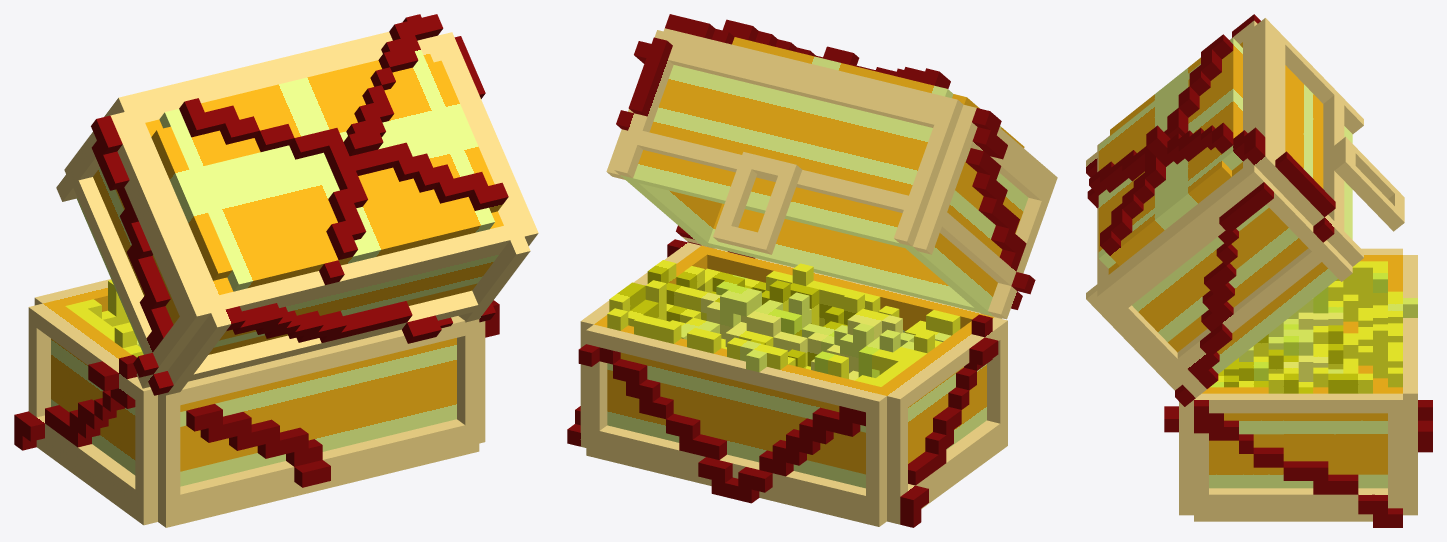
Rendered from cofre_desierto.dae.
The picture shows the model from 3 angles, left to right: view 1: azimuth 30°, elevation 25°; view 2: azimuth 150°, elevation 25°; view 3: azimuth 270°, elevation 25°; orthographic projection. The views are drawn at different scales.
Visible parts, largest first — view 1: Node (1)-local, Node-local; view 2: Node-local, Node (1)-local; view 3: Node (1)-local, Node-local.
Part boxes in pixels (<box>): Node (1)-local: <box>56,14,538,395</box>; Node-local: <box>14,279,499,527</box>; Node-local: <box>567,239,1007,527</box>; Node (1)-local: <box>606,14,1057,319</box>; Node (1)-local: <box>1086,14,1404,406</box>; Node-local: <box>1164,248,1432,527</box>.
Size of the model in its own units: 26 by 27.29 by 23.23.
2 materials, 2 textured.
